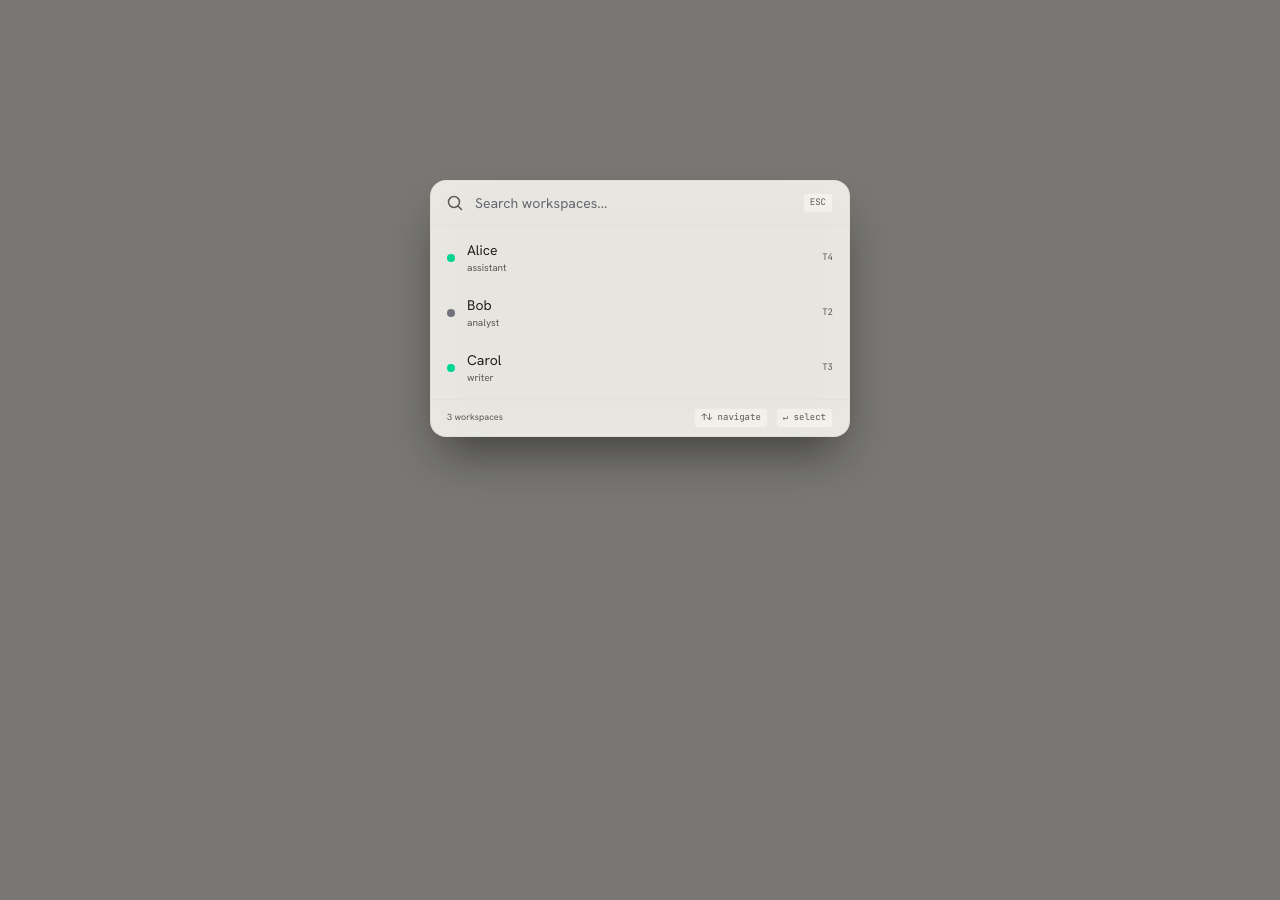
Test case: SearchDialog — filtering › filters workspaces by role (case-insensitive)
Type "writer" into the dropdown at (633,203), box [475,193,791,213]
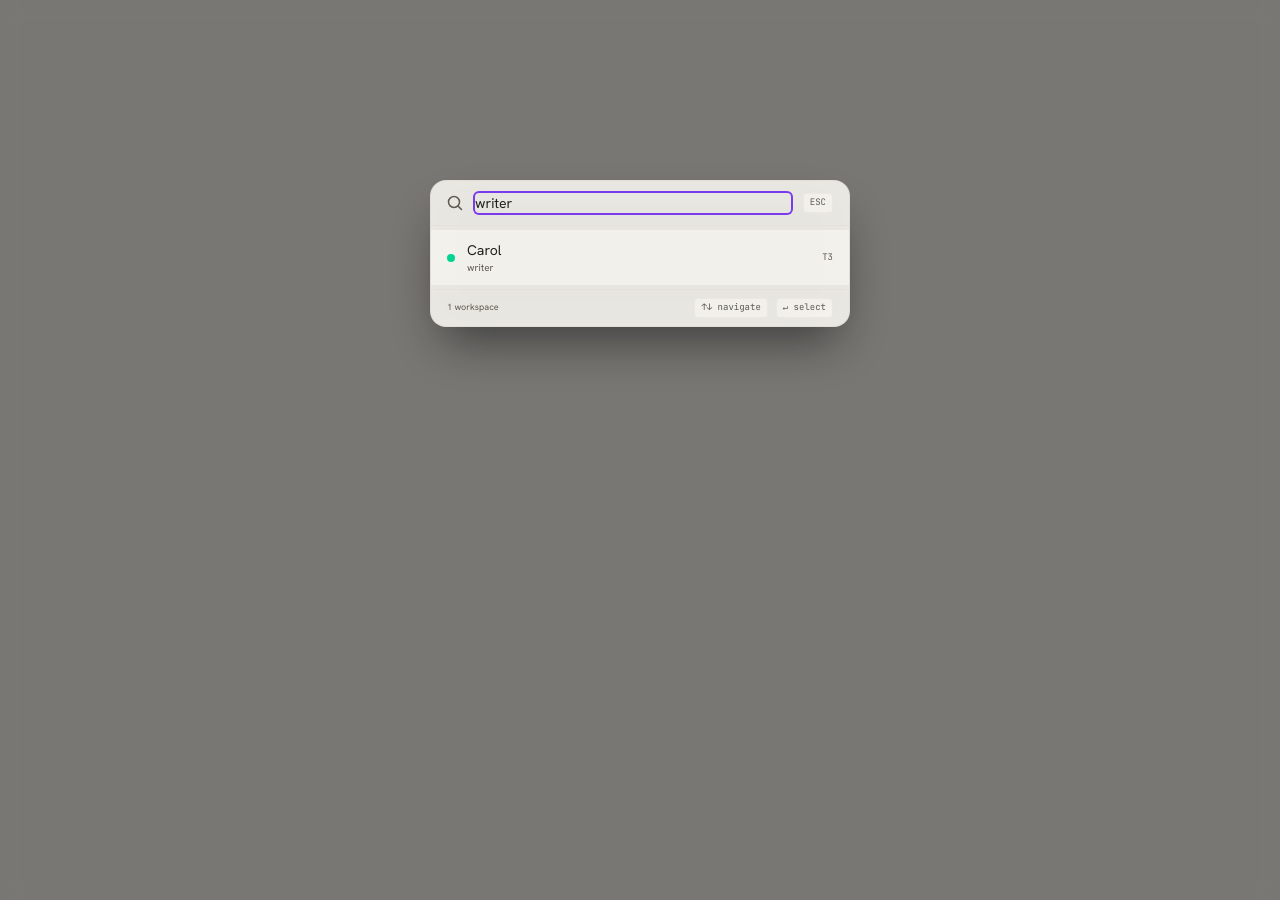
Expected: the text "Carol" is shown, [467,241,502,259]
Expected: the option "Alice" is gone
Expected: the option "Bob" is gone
